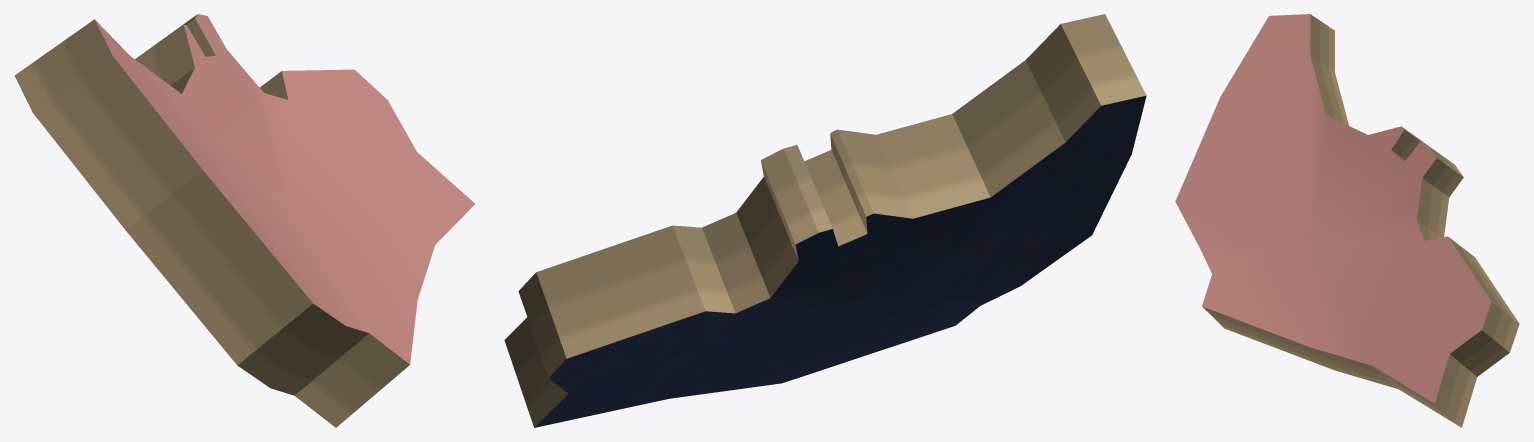
File: 061a_Saudi_Arabia.glb
3 views of the same model, side by side, from view 1: azimuth 30°, elevation 25°; view 2: azimuth 150°, elevation 25°; view 3: azimuth 270°, elevation 25° (orthographic). The views are drawn at different scales.
Parts seen in each view (by area): view 1: part_0; view 2: part_0; view 3: part_0.
Boxes of the visible parts, x1,y1,x2,y2 form: part_0: (14, 14, 474, 427); part_0: (504, 14, 1146, 427); part_0: (1175, 14, 1519, 427).
Bounding box in the file's own units: 1.27 × 0.9508 × 1.06.
Materials: 1 (1 with a texture image).
